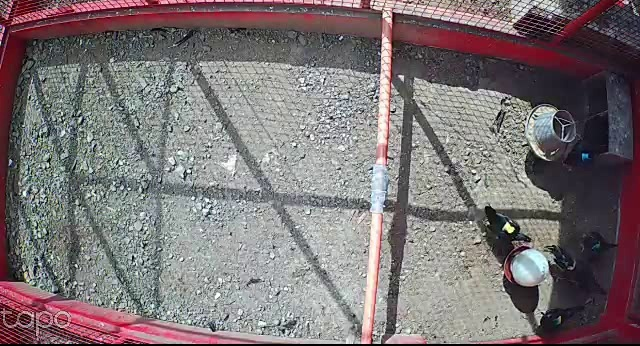Chicken: (558, 112, 604, 180), (479, 204, 533, 244), (540, 303, 588, 339), (576, 230, 619, 258)
Drinker: (503, 245, 548, 289)
Feeder: (526, 103, 576, 164)
Rooster: (542, 242, 609, 297)
Saddle_Color_Blue: (582, 153, 589, 160)
Saddle_Color_Yellow: (503, 222, 516, 235)
